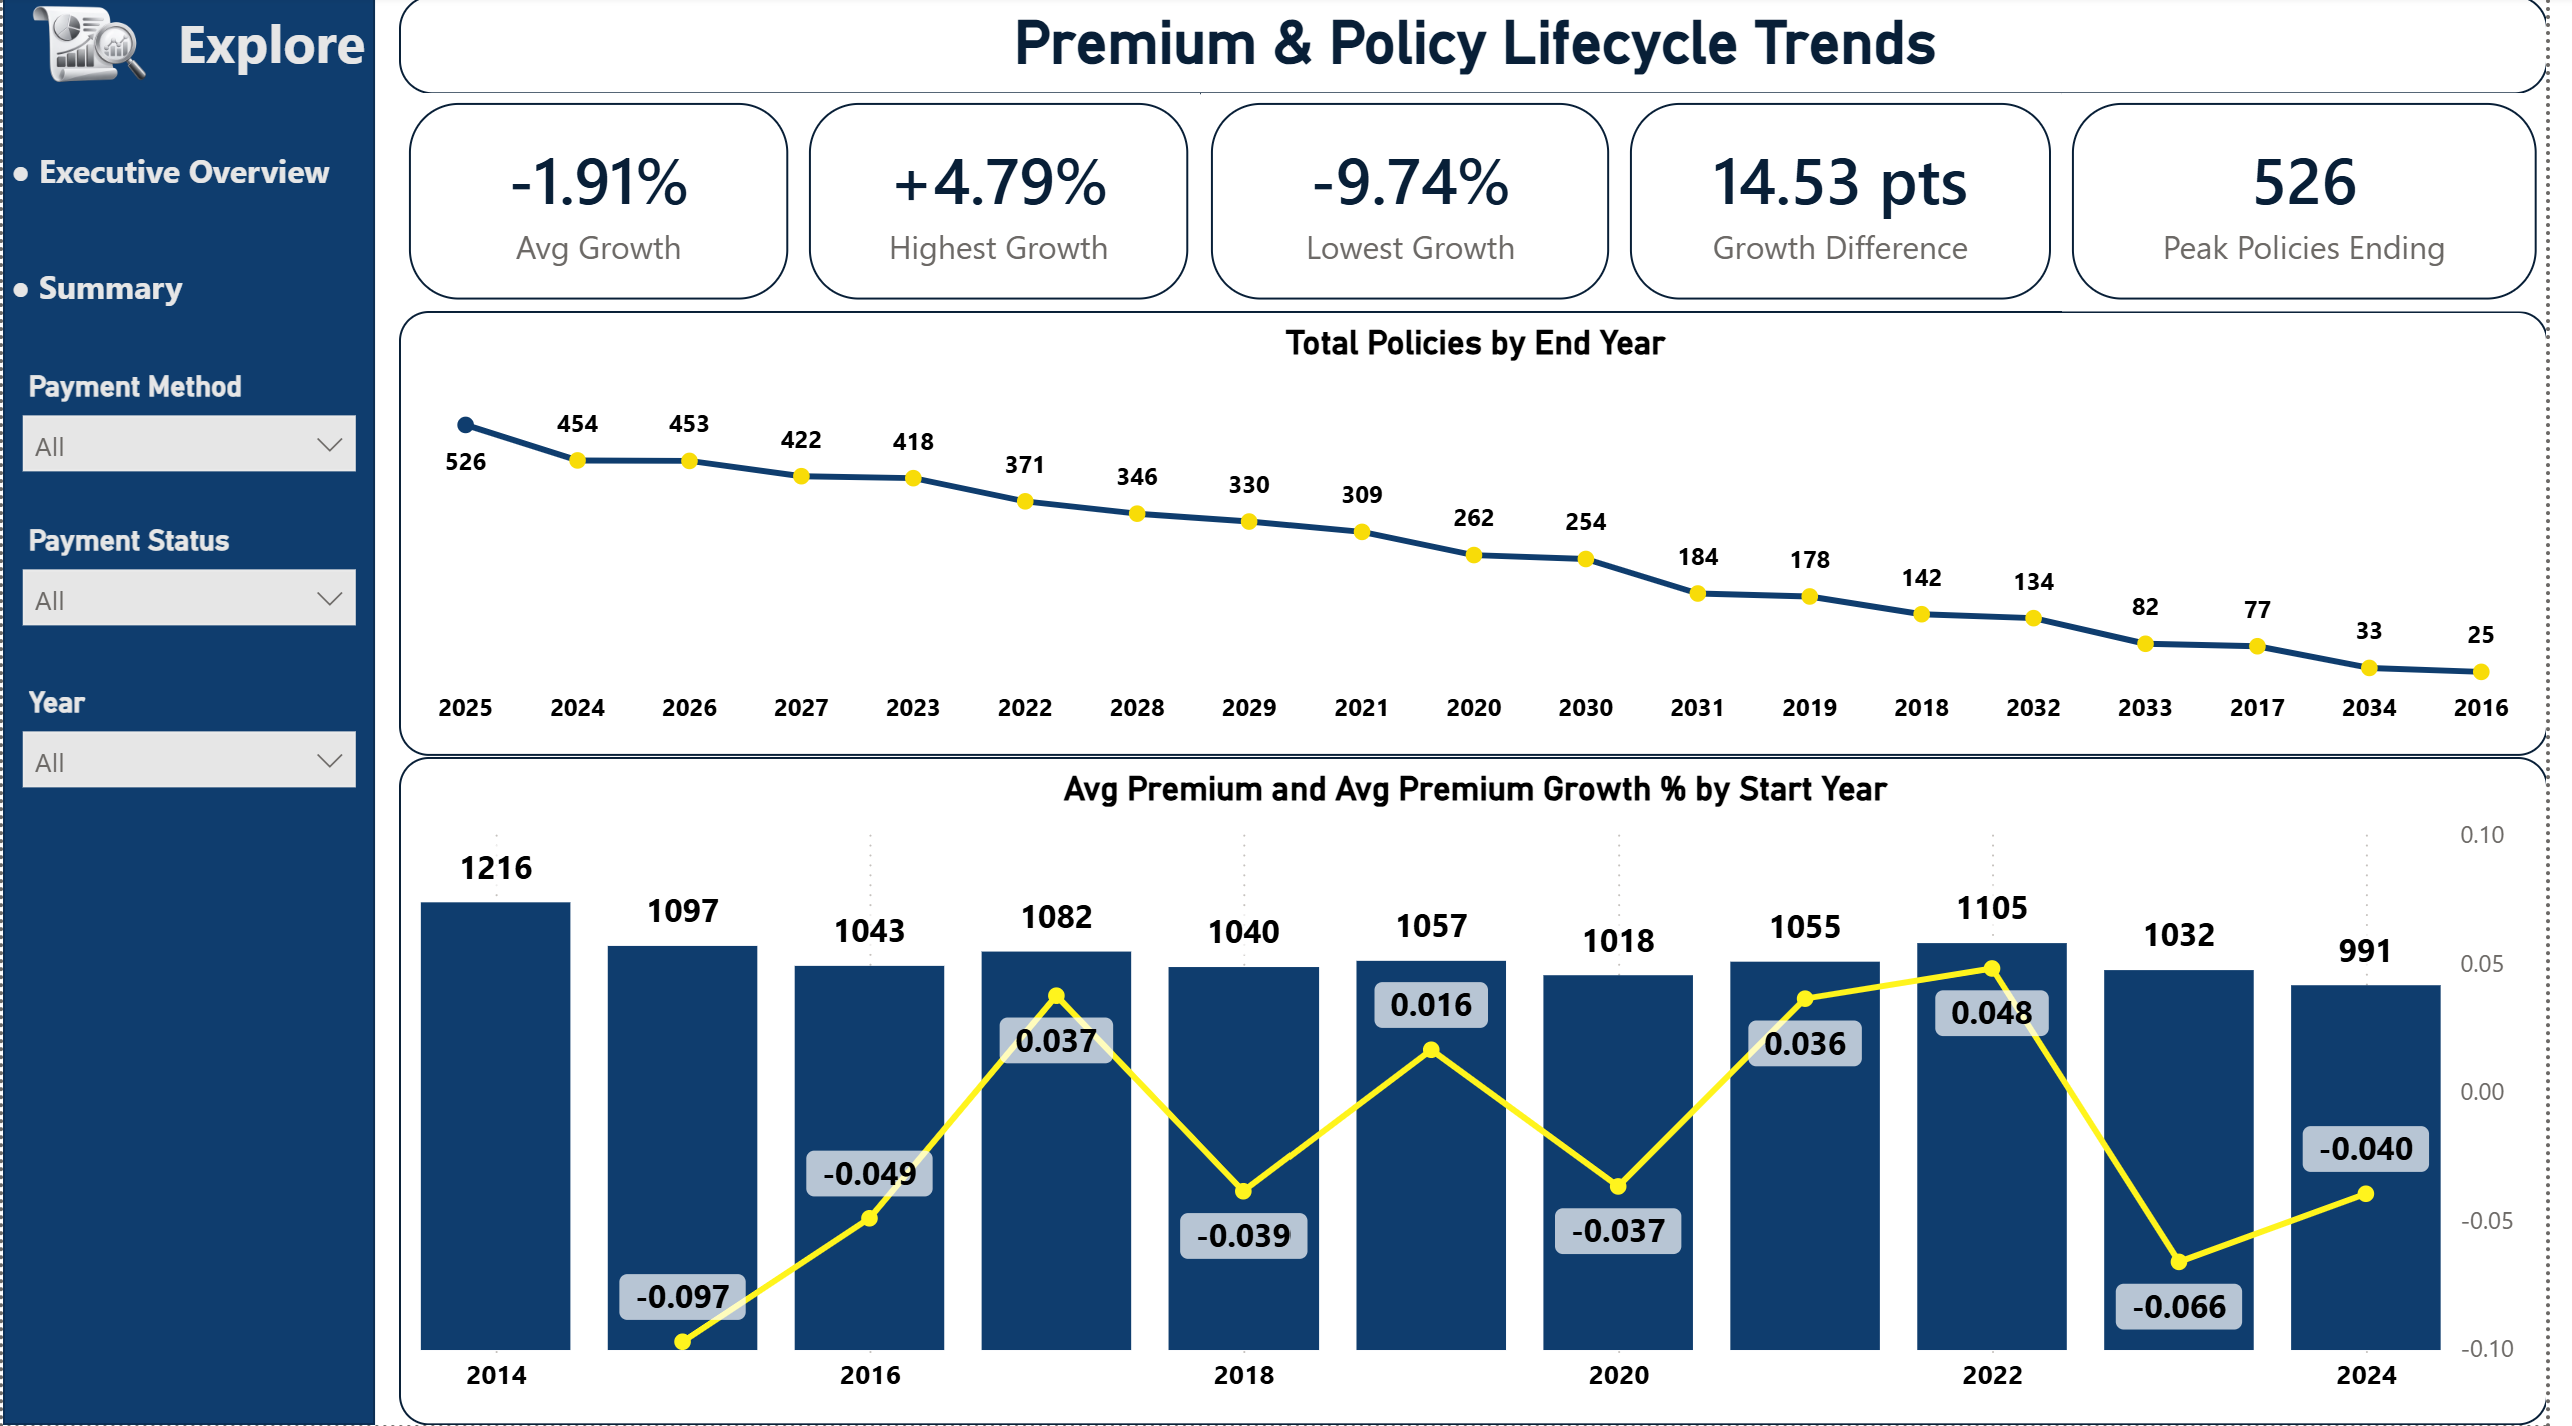

This screenshot's page, from the dashboard's own definition file:
{"tool":"powerbi","page":{"name":"Premium & Policy Lifeccle Trends","canvas":[1280,720],"ordinal":1},"visuals":[{"type":"textbox","title":"Premium & Policy Lifecycle Trends","box":[199,0,1081.5,49.8],"z":0},{"type":"cardVisual","fields":{"Data":["Payment History.Avg Growth"]},"box":[199,49.8,202,109.8],"z":1000},{"type":"cardVisual","fields":{"Data":["Payment History.Highest Growth"]},"box":[401,49.8,202,109.8],"z":2000},{"type":"cardVisual","fields":{"Data":["Payment History.Lowest Growth"]},"box":[602.9,49.8,210.7,109.8],"z":3000},{"type":"cardVisual","fields":{"Data":["Payment History.Growth Difference"]},"box":[813.7,49.8,222.4,109.8],"z":4000},{"type":"lineChart","fields":{"Category":["Policy Details.End Year"],"Y":["Policy Details.Total Policies"]},"box":[199,159.5,1081.5,223.9],"z":5000},{"type":"shape","box":[0,0,187.3,720],"z":6000},{"type":"lineClusteredColumnComboChart","fields":{"Category":["Policy Details.Start Year"],"Y":["Payment History.Avg Premium"],"Y2":["Payment History.Avg Premium Growth %"]},"box":[199,383.4,1081.5,336.6],"z":7000},{"type":"slicer","fields":{"Values":["Payment History.Payment Method"]},"box":[0,182.9,187.3,92.2],"z":8000},{"type":"slicer","fields":{"Values":["Payment History.Payment Status"]},"box":[0,260.5,187.3,68.8],"z":9000},{"type":"actionButton","box":[0,58.5,199,58.5],"z":10000},{"type":"actionButton","box":[0,117.1,199,58.5],"z":11000},{"type":"cardVisual","fields":{"Data":["Payment History.Peak Policies Ending"]},"box":[1036.1,49.8,244.4,109.8],"z":12000},{"type":"textbox","box":[0,0,187.3,73.2],"z":13000},{"type":"image","box":[0,0,83.4,49.8],"z":14000},{"type":"slicer","fields":{"Values":["DateTable.Year"]},"box":[0,342.4,187.3,82],"z":15000}]}

Visuals, with their boxes on the page's 1280x720 design canvas (x1, y1, x2, y2). These are canvas units, not pixel positions in the 2572x1426 screenshot, which may show the page scaled, cropped or inside an application window:
"Premium & Policy Lifecycle Trends" textbox: <box>199,0,1280,50</box>
cardVisual - Payment History.Avg Growth: <box>199,50,401,160</box>
cardVisual - Payment History.Highest Growth: <box>401,50,603,160</box>
cardVisual - Payment History.Lowest Growth: <box>603,50,814,160</box>
cardVisual - Payment History.Growth Difference: <box>814,50,1036,160</box>
lineChart - Policy Details.End Year x Policy Details.Total Policies: <box>199,160,1280,383</box>
shape: <box>0,0,187,720</box>
lineClusteredColumnComboChart - Policy Details.Start Year x Payment History.Avg Premium: <box>199,383,1280,720</box>
slicer - Payment History.Payment Method: <box>0,183,187,275</box>
slicer - Payment History.Payment Status: <box>0,260,187,329</box>
actionButton: <box>0,58,199,117</box>
actionButton: <box>0,117,199,176</box>
cardVisual - Payment History.Peak Policies Ending: <box>1036,50,1280,160</box>
textbox: <box>0,0,187,73</box>
image: <box>0,0,83,50</box>
slicer - DateTable.Year: <box>0,342,187,424</box>
